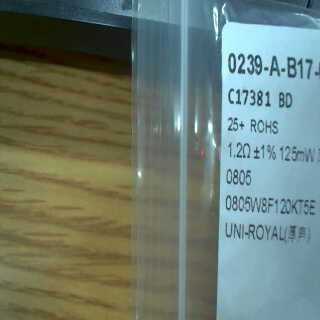1.2R: (224, 136, 254, 192)
